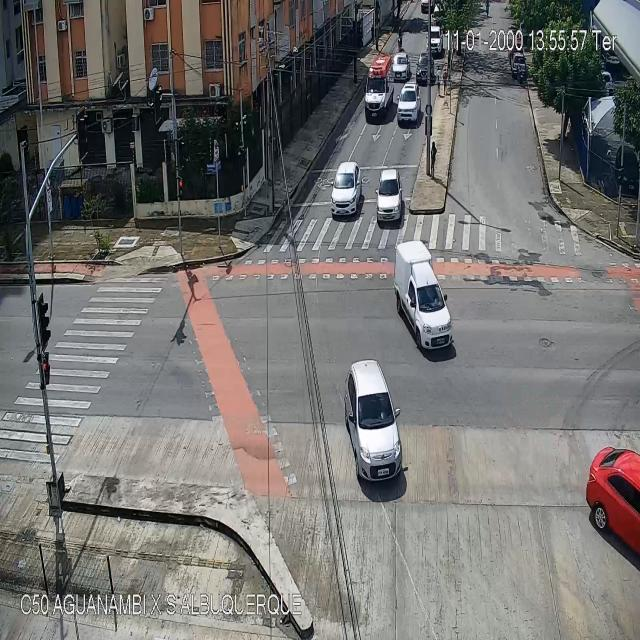Car: (345, 358, 405, 482), (394, 240, 452, 356), (586, 446, 640, 560), (365, 55, 394, 118), (330, 162, 362, 217), (376, 166, 403, 227), (396, 83, 421, 126), (415, 52, 434, 87), (391, 52, 410, 82), (426, 26, 443, 55), (511, 54, 526, 76)
Motorcycle: (515, 64, 524, 83), (397, 25, 402, 50)
